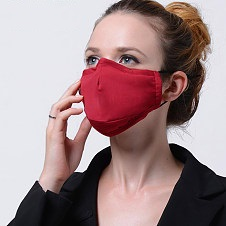face_mask: (81, 16, 161, 127)
